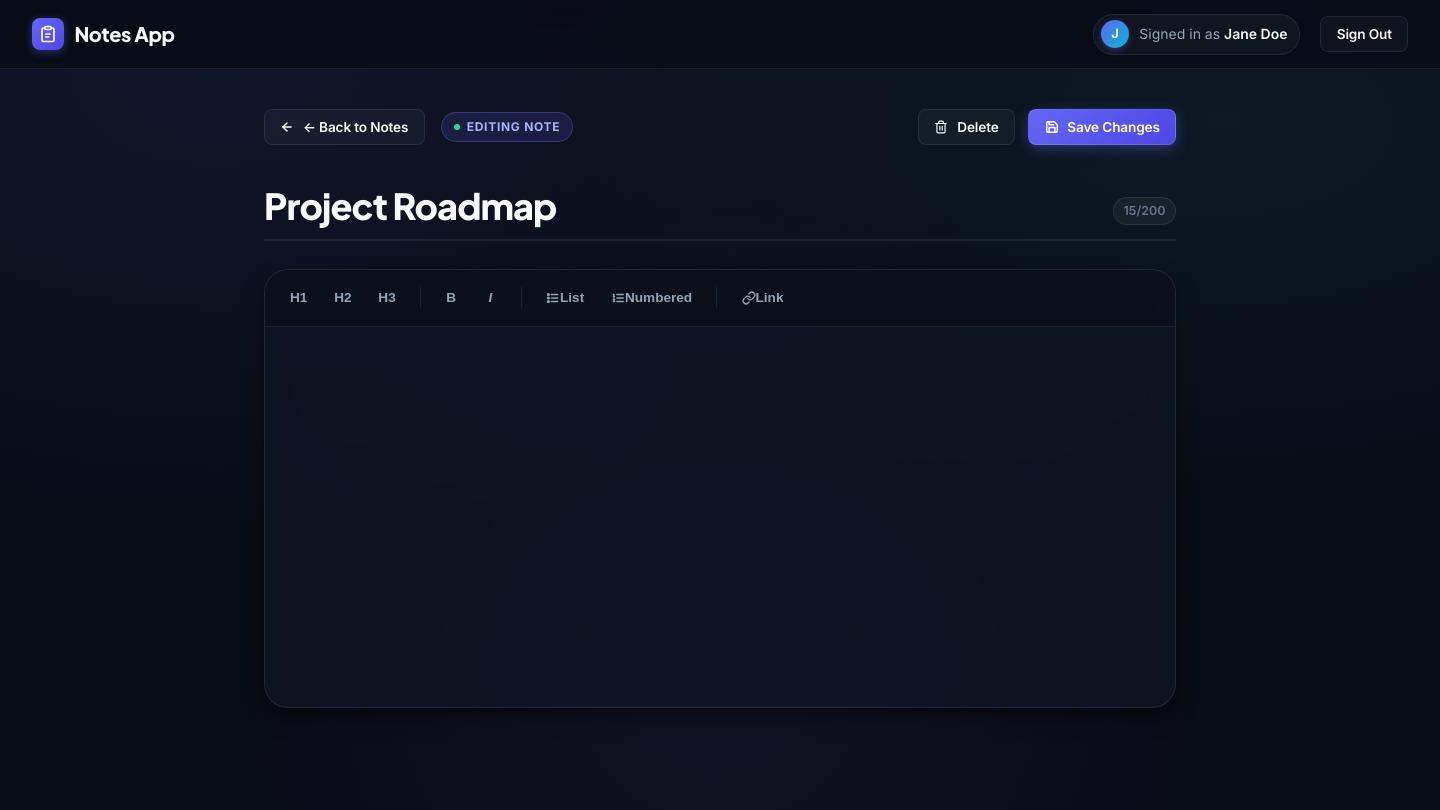
it: Rich Text Note Editor Feature › loads existing note details, updates title, and saves changes
The width and height of the screenshot is (1440, 810).
Check: the text "Editing Note" is shown, box [440,112,573,142]
Check: the button with test id "delete-note-button" is shown, box [918,109,1015,145]
Replace the text in the field with test id "note-title-input" with "Updated Project Roadmap" at (720, 207), box [264,173,1176,241]
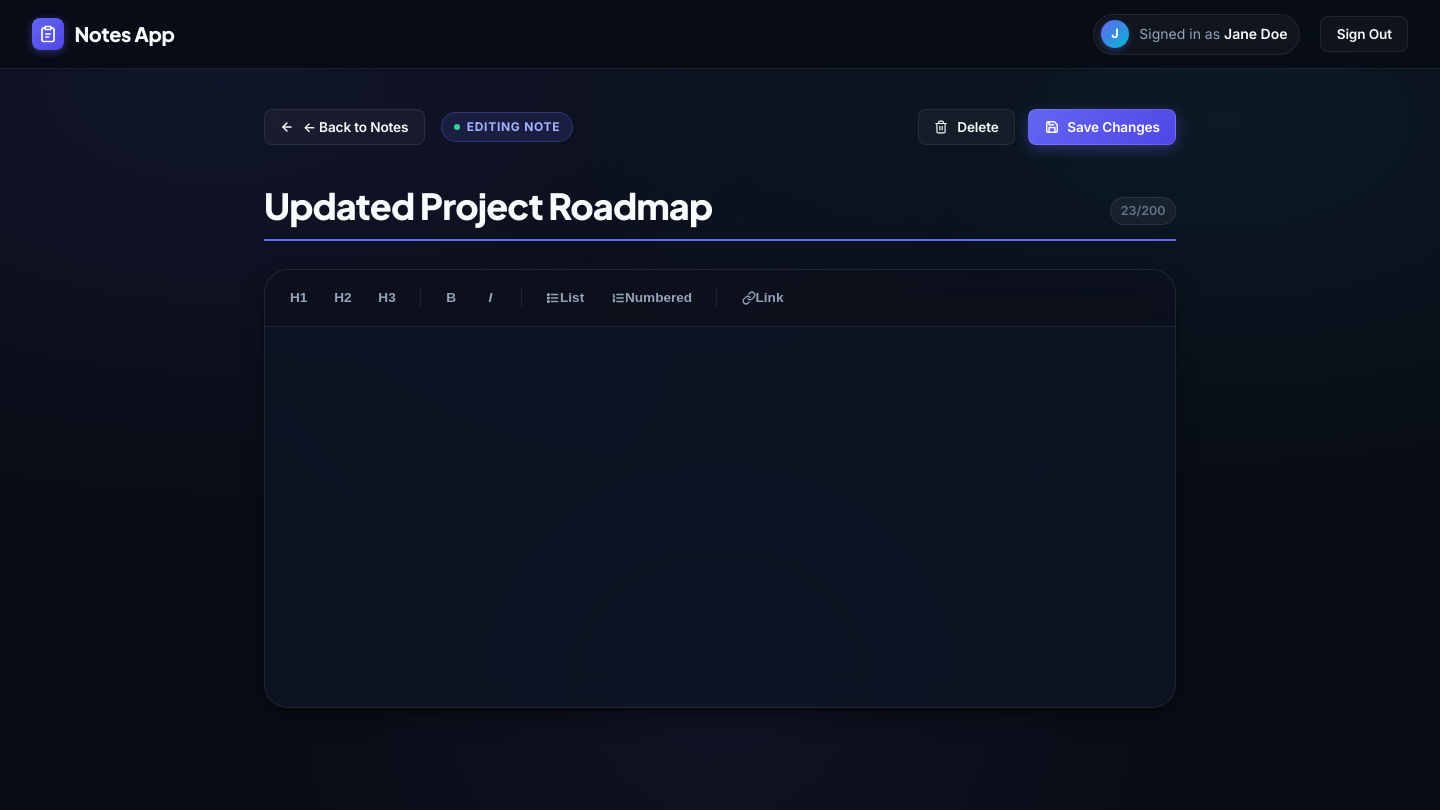
Click the button with test id "save-note-button" at (1102, 127), box [1028,109,1176,145]
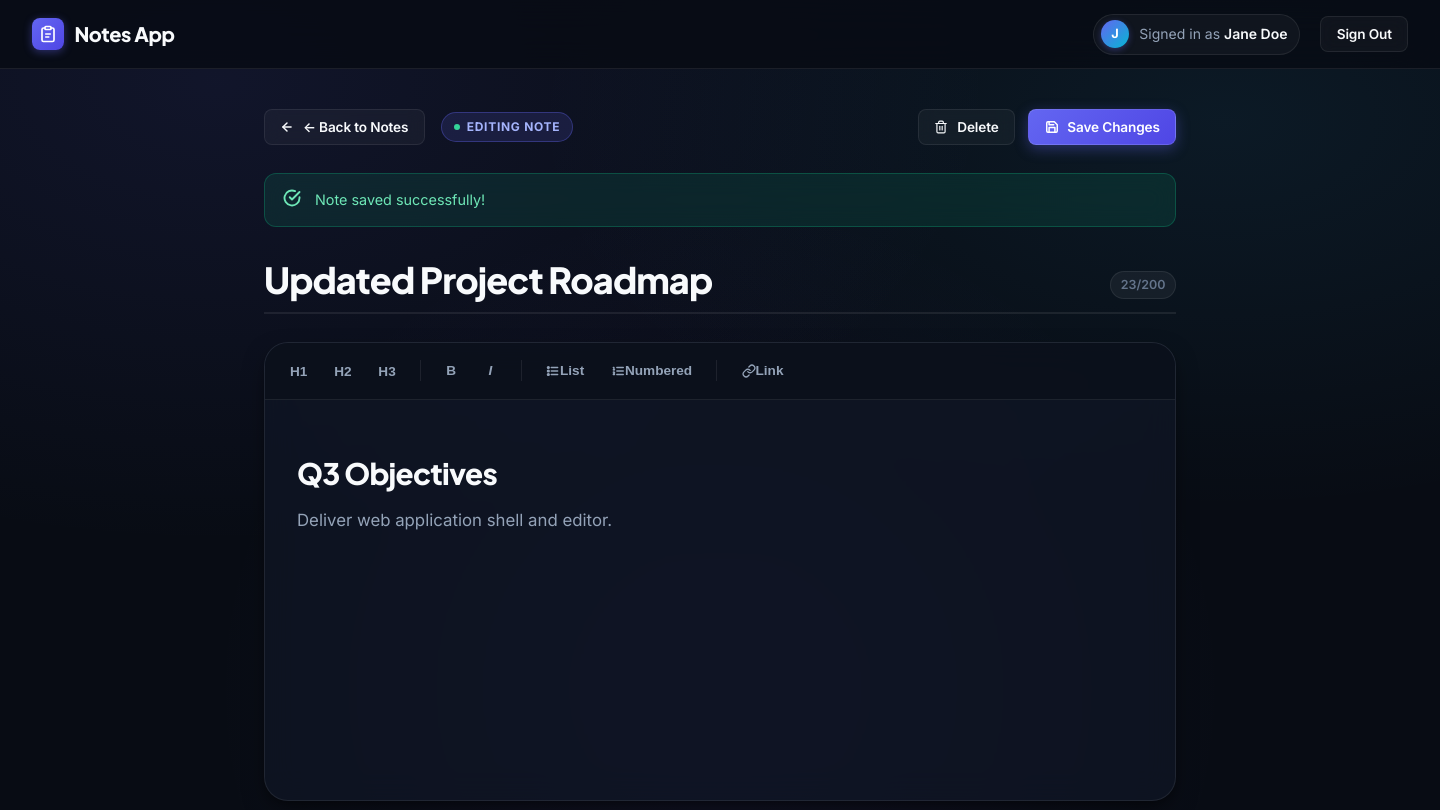
Check: the text "Note saved successfully!" is shown, box [315,191,485,208]
